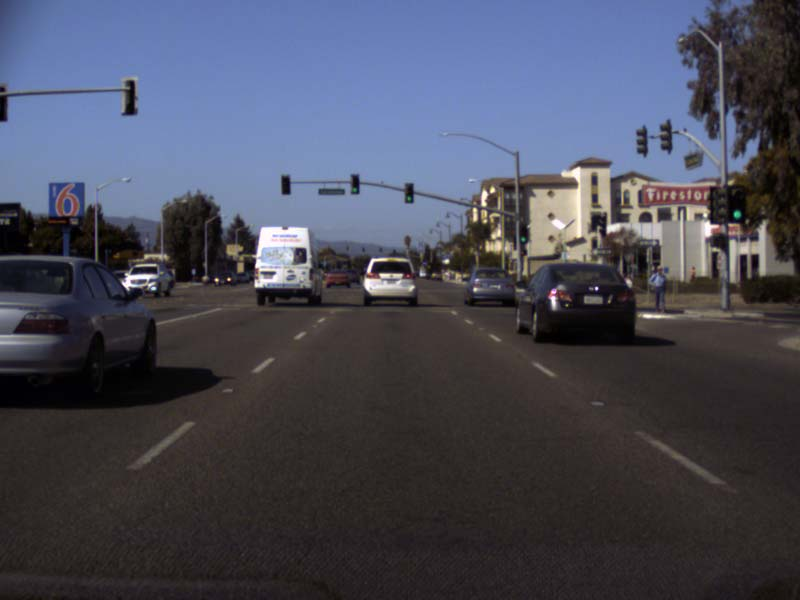Green: (726, 184, 745, 224), (350, 174, 360, 194), (404, 182, 413, 203), (519, 224, 527, 244)
